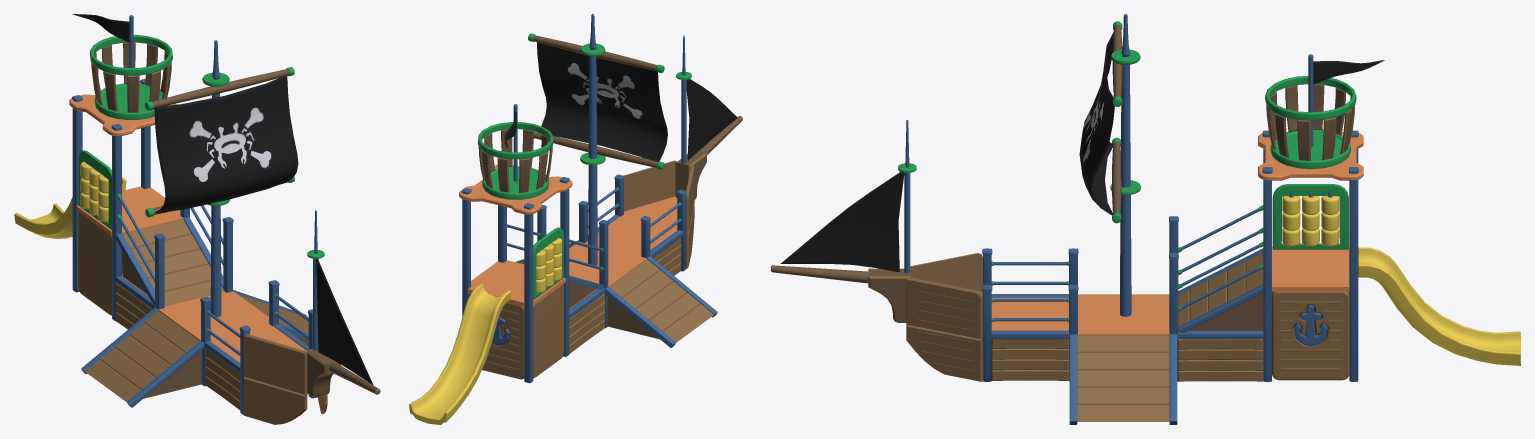
The model's file is PiratePlayground.fbx.
3 views of the same model, side by side, from view 1: azimuth 30°, elevation 25°; view 2: azimuth 150°, elevation 25°; view 3: azimuth 270°, elevation 25° (orthographic). The views are drawn at different scales.
Visible parts, largest first — view 1: piratePlayground; view 2: piratePlayground; view 3: piratePlayground.
Part boxes in pixels (x1,y1,x2,y2): piratePlayground: [14, 14, 380, 424]; piratePlayground: [409, 14, 742, 424]; piratePlayground: [771, 14, 1520, 424].
Size of the model in its own units: 473 by 652 by 1257.
